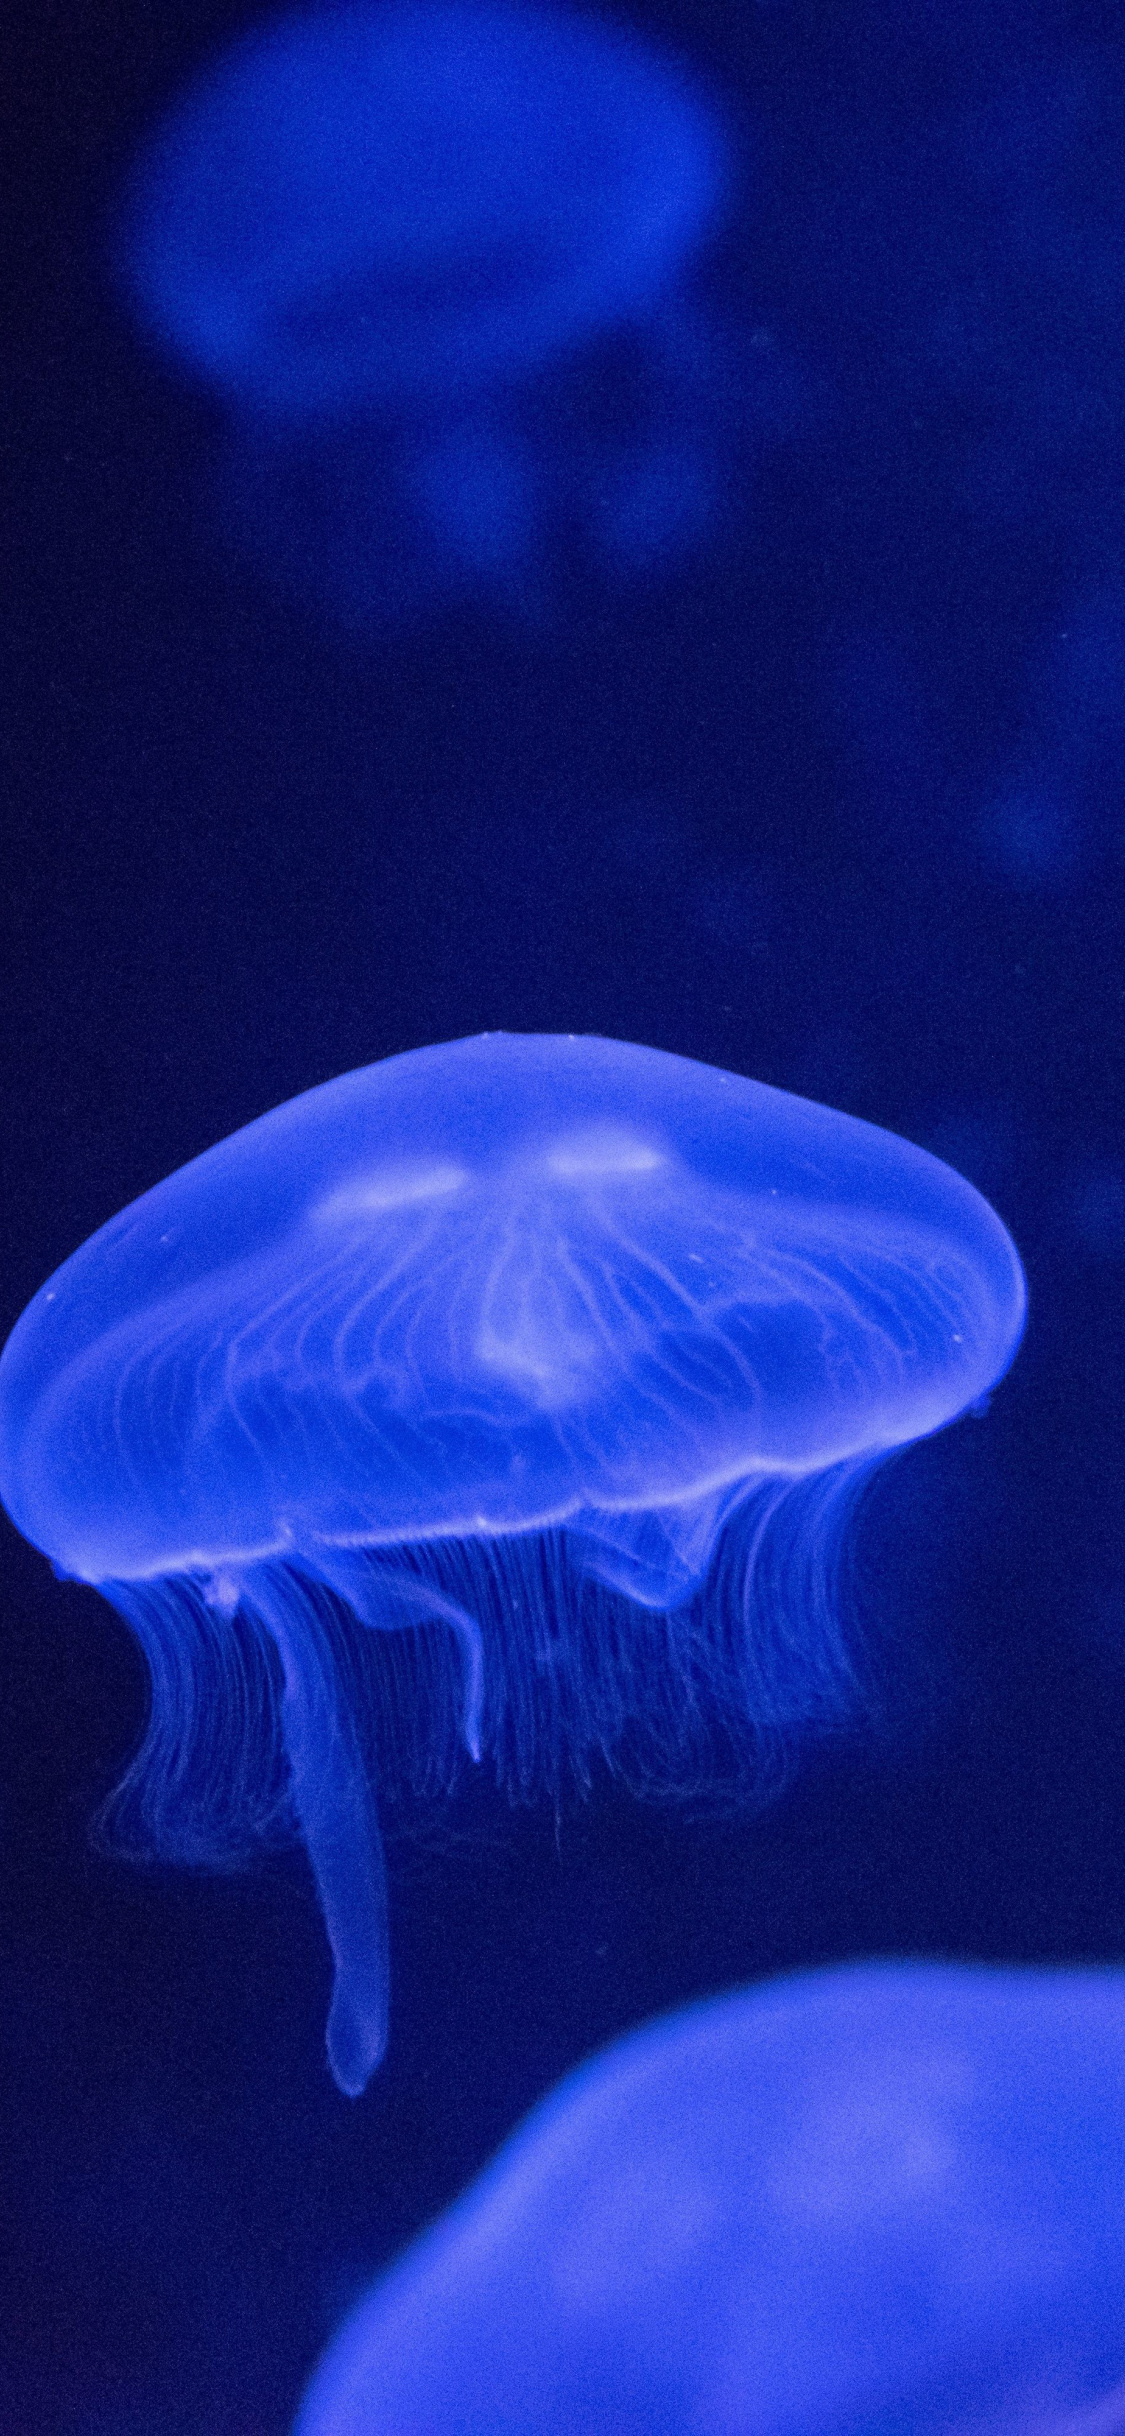jellyfish: (22, 1018, 1035, 1962)
